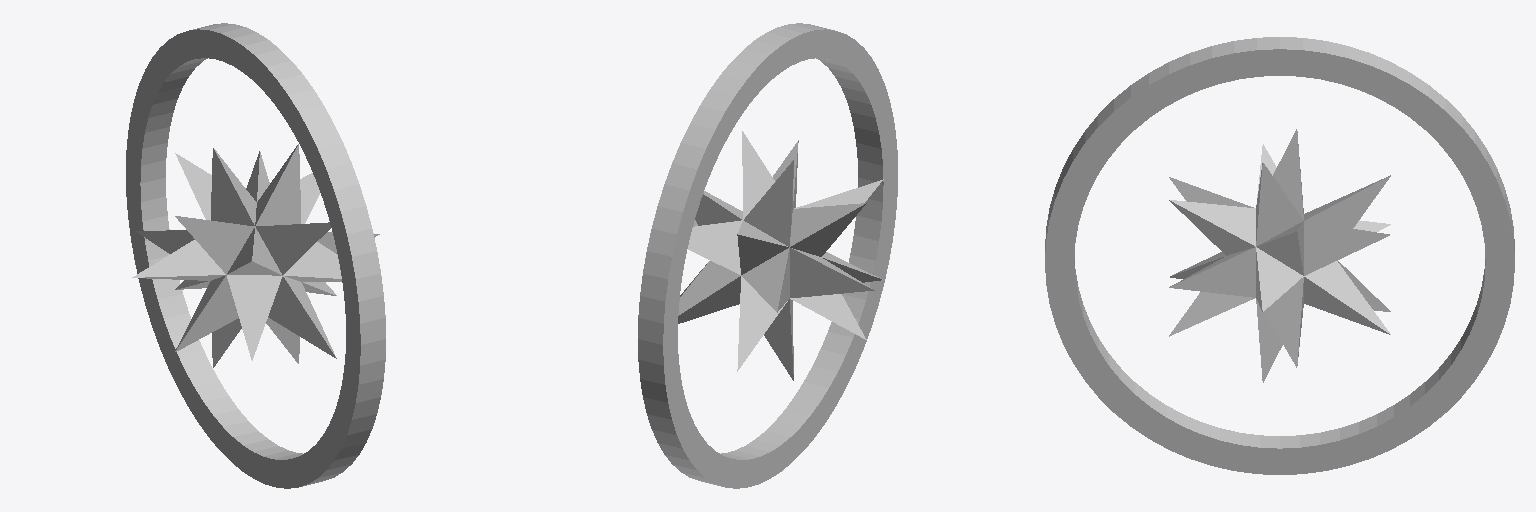
Rendered from ThornballPU.obj.
3 renders of one model, left to right at view 1: azimuth 30°, elevation 25°; view 2: azimuth 150°, elevation 25°; view 3: azimuth 270°, elevation 25°, orthographic.
Parts seen in each view (by area): view 1: Frame_Cylinder, Thornball_Icosphere; view 2: Frame_Cylinder, Thornball_Icosphere; view 3: Frame_Cylinder, Thornball_Icosphere.
Boxes of the visible parts, box(x1,y1,x2,y2) form: Frame_Cylinder: box(126, 23, 385, 488); Thornball_Icosphere: box(132, 144, 379, 367); Frame_Cylinder: box(638, 23, 897, 488); Thornball_Icosphere: box(678, 131, 883, 380); Frame_Cylinder: box(1045, 37, 1514, 474); Thornball_Icosphere: box(1169, 129, 1390, 382).
Bounding box in the file's own units: 91.02 × 160 × 160.